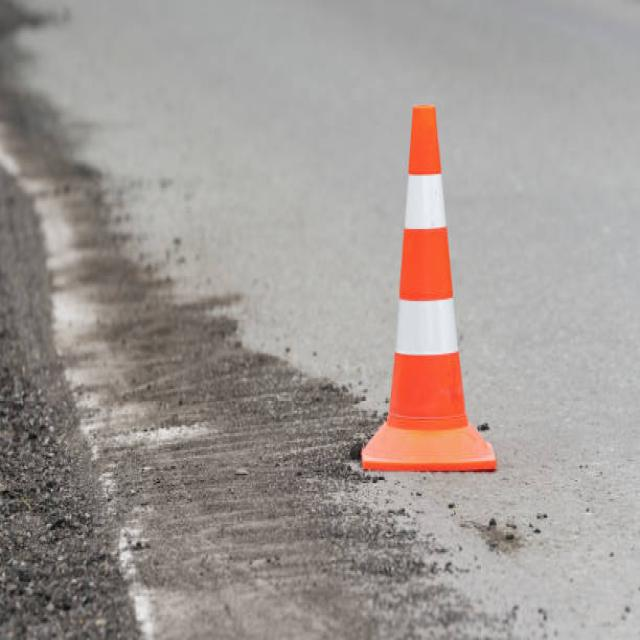Traffic Cone: (315, 38, 526, 502)
